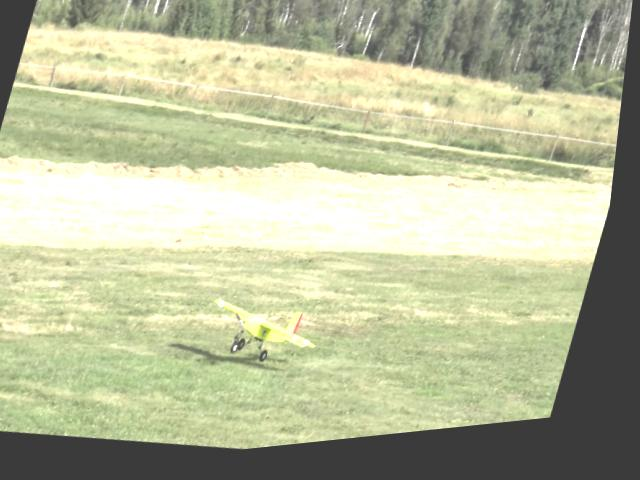plane: (205, 293, 337, 382)
